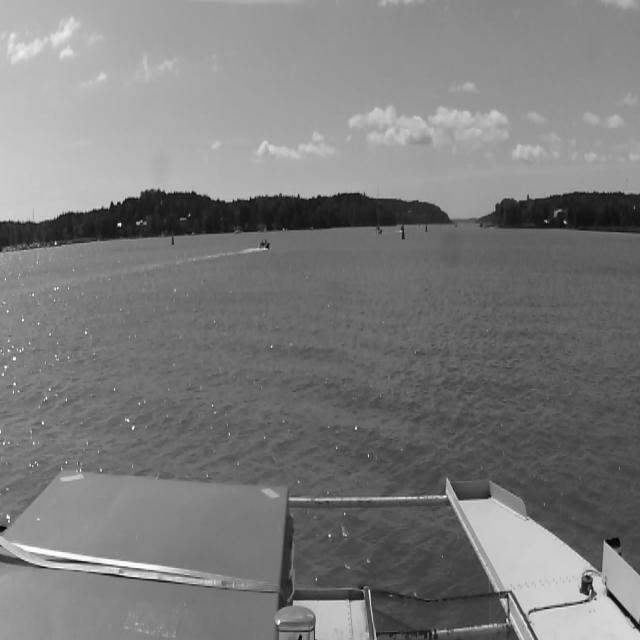buoy: (402, 228, 404, 239), (172, 234, 174, 244)
ship: (376, 200, 382, 234), (258, 239, 270, 249)
